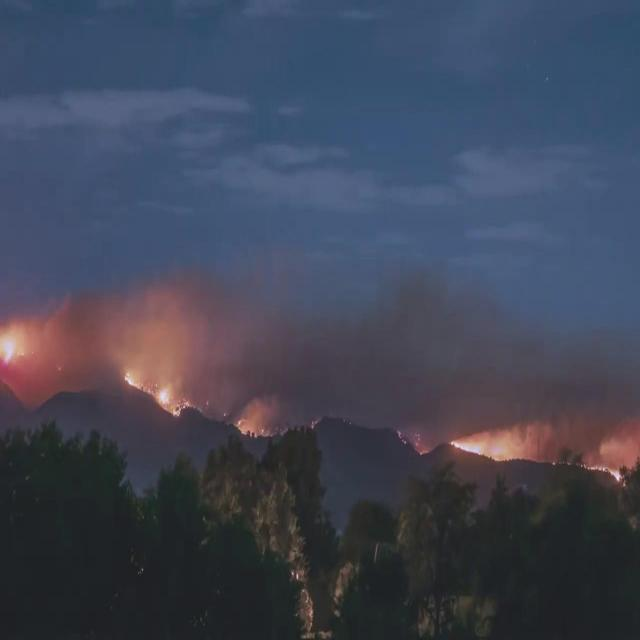Fire: (124, 371, 198, 416), (450, 430, 518, 460), (584, 457, 622, 486), (2, 331, 26, 367), (236, 415, 264, 439), (415, 446, 428, 456), (309, 418, 317, 428)
